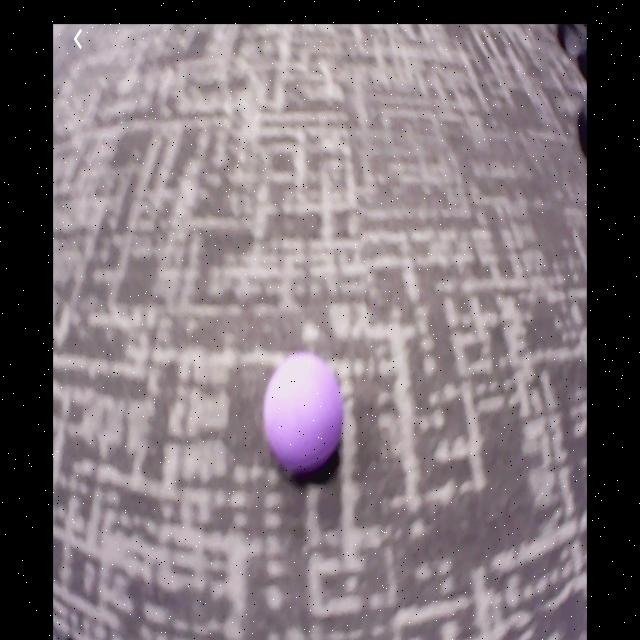ball: (266, 352, 344, 473)
